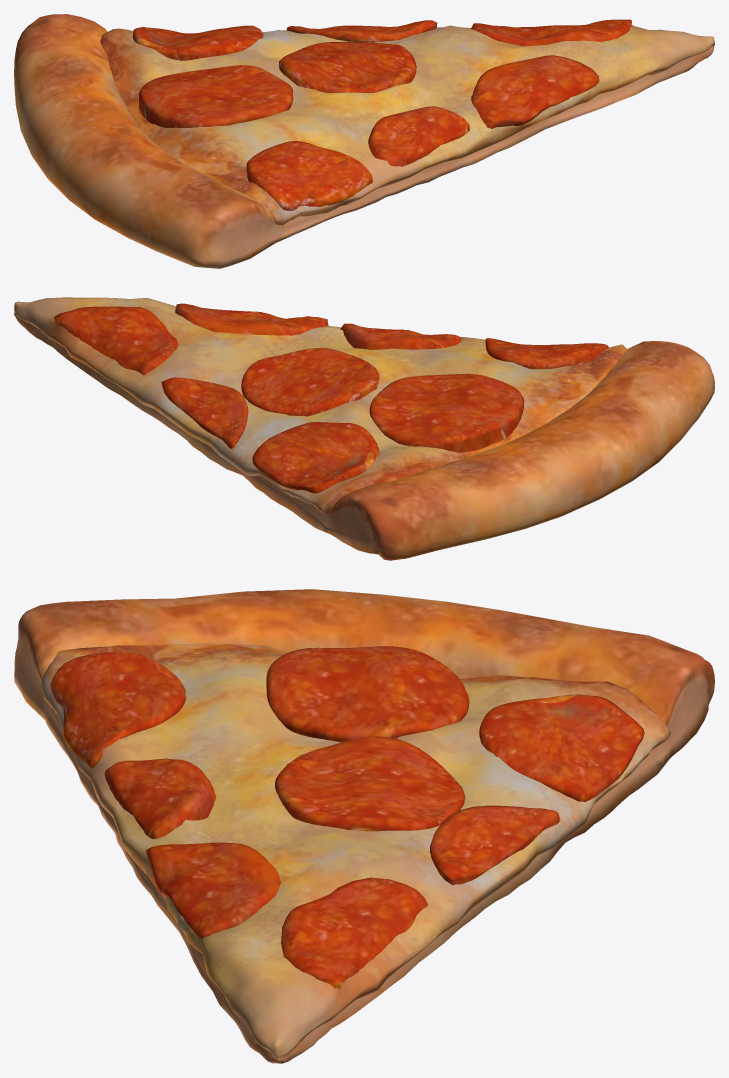
File: pizza.glb
The picture shows the model from 3 angles, top to bottom: view 1: azimuth 30°, elevation 25°; view 2: azimuth 150°, elevation 25°; view 3: azimuth 270°, elevation 25°; orthographic projection. The views are drawn at different scales.
Parts seen in each view (by area): view 1: Object_5; view 2: Object_5; view 3: Object_5.
Boxes of the visible parts, x1,y1,x2,y2 form: Object_5: (14,14,714,268); Object_5: (14,297,714,560); Object_5: (14,589,714,1063).
Bounding box in the file's own units: 0.0244 × 0.00234 × 0.017.
Materials: 1 (1 with a texture image).
